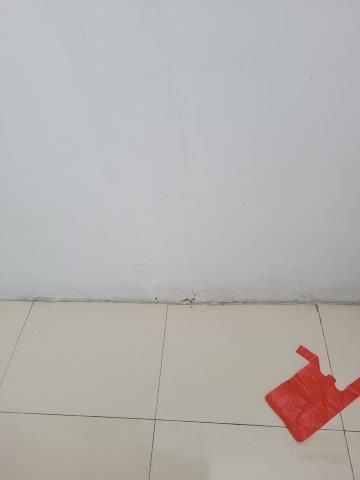plastik: (264, 347, 360, 445)
